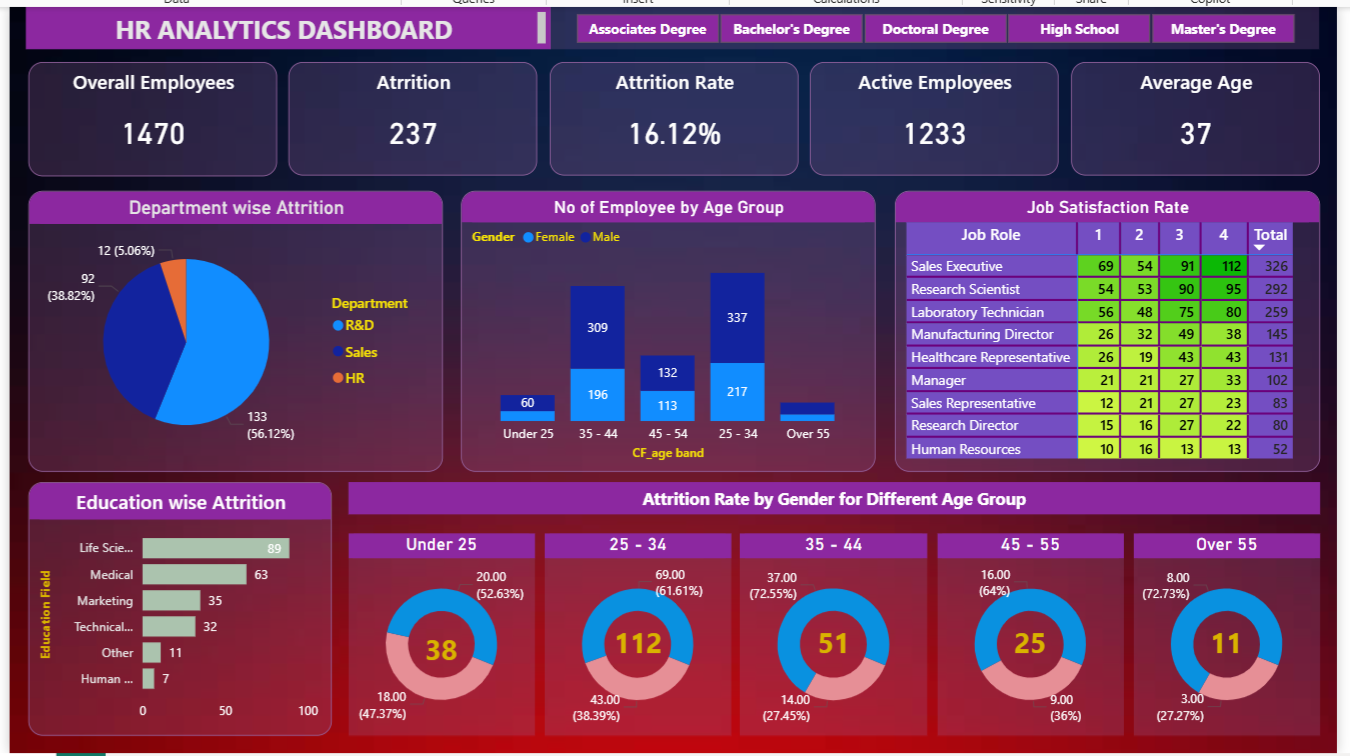

Layout of this report page (visuals, bound fields, positions):
{"tool":"powerbi","page":{"name":"Page 1","canvas":[1280,720],"ordinal":0},"visuals":[{"type":"card","title":"Overall Employees","fields":{"Values":["Sum(HR data.Employee Count)"]},"box":[17.8,53.5,240,110],"z":0},{"type":"card","title":"Atrrition","fields":{"Values":["Sum(HR data.AttritionCount)"]},"box":[269.2,53.5,240.1,109.8],"z":1000},{"type":"card","title":"Attrition Rate","fields":{"Values":["HR data.Attrition Rate"]},"box":[520.7,53.5,240.1,109.8],"z":2000},{"type":"card","title":"Active Employees","fields":{"Values":["HR data.Active Employees"]},"box":[772.2,53.5,240.1,109.8],"z":3000},{"type":"card","title":"Average Age","fields":{"Values":["Avg(HR data.Age)"]},"box":[1023.7,53.5,240.1,109.8],"z":4000},{"type":"pieChart","title":" Department wise Attrition","fields":{"Category":["HR data.Department"],"Y":["Sum(HR data.AttritionCount)"]},"box":[18.1,177.3,400,271],"z":5000},{"type":"columnChart","title":"No of Employee by Age Group","fields":{"Series":["HR data.Gender"],"Category":["HR data.CF_age band"],"Y":["Sum(HR data.Employee Count)"]},"box":[436.1,177.3,400,271],"z":6000},{"type":"pivotTable","title":" Job Satisfaction Rate","fields":{"Rows":["HR data.Job Role"],"Columns":["HR data.Job Satisfaction"],"Values":["Sum(HR data.Employee Count)"]},"box":[854.2,177.3,410.2,271.4],"z":7000},{"type":"barChart","title":" Education wise Attrition","fields":{"Y":["Sum(HR data.AttritionCount)"],"Category":["HR data.Education Field"]},"box":[18.1,458.4,293.2,244.9],"z":8000},{"type":"donutChart","title":" Under 25","fields":{"Category":["HR data.Gender"],"Y":["Sum(HR data.AttritionCount)"],"Series":["HR data.CF_age band"]},"box":[326.9,507.9,179.8,195.4],"z":9000},{"type":"textbox","box":[326.9,458.4,937.4,31.4],"z":10000},{"type":"donutChart","title":"25 - 34","fields":{"Category":["HR data.Gender"],"Y":["Sum(HR data.AttritionCount)"],"Series":["HR data.CF_age band"]},"box":[516.1,507.9,179.8,195.4],"z":11000},{"type":"donutChart","title":"35 - 44","fields":{"Category":["HR data.Gender"],"Y":["Sum(HR data.AttritionCount)"],"Series":["HR data.CF_age band"]},"box":[705.2,507.9,181,195.4],"z":12000},{"type":"donutChart","title":"45 - 55","fields":{"Category":["HR data.Gender"],"Y":["Sum(HR data.AttritionCount)"],"Series":["HR data.CF_age band"]},"box":[895.5,507.9,179.8,195.4],"z":13000},{"type":"donutChart","title":" Over 55","fields":{"Category":["HR data.Gender"],"Y":["Sum(HR data.AttritionCount)"],"Series":["HR data.CF_age band"]},"box":[1084.6,507.9,179.8,195.4],"z":14000},{"type":"textbox","box":[15.1,0,506.3,41.2],"z":15000},{"type":"card","fields":{"Values":["Sum(HR data.AttritionCount)"]},"box":[393.8,605.1,46.7,31.6],"z":16000},{"type":"card","fields":{"Values":["Sum(HR data.AttritionCount)"]},"box":[772.6,598.3,46.7,31.6],"z":17000},{"type":"card","fields":{"Values":["Sum(HR data.AttritionCount)"]},"box":[961.9,598.3,46.7,31.6],"z":18000},{"type":"card","fields":{"Values":["Sum(HR data.AttritionCount)"]},"box":[1151.3,598.3,46.7,31.6],"z":19000},{"type":"card","fields":{"Values":["Sum(HR data.AttritionCount)"]},"box":[577.7,595.5,57.6,37],"z":20000},{"type":"slicer","fields":{"Values":["HR data.Education"]},"box":[521.4,0,742.4,41.2],"z":21000}]}

Visuals, with their boxes on the page's 1280x720 design canvas (x1, y1, x2, y2). These are canvas units, not pixel positions in the 1350x756 screenshot, which may show the page scaled, cropped or inside an application window:
"Overall Employees" card: 18,54,258,164
"Atrrition" card: 269,54,509,163
"Attrition Rate" card: 521,54,761,163
"Active Employees" card: 772,54,1012,163
"Average Age" card: 1024,54,1264,163
" Department wise Attrition" pieChart: 18,177,418,448
"No of Employee by Age Group" columnChart: 436,177,836,448
" Job Satisfaction Rate" pivotTable: 854,177,1264,449
" Education wise Attrition" barChart: 18,458,311,703
" Under 25" donutChart: 327,508,507,703
textbox: 327,458,1264,490
"25 - 34" donutChart: 516,508,696,703
"35 - 44" donutChart: 705,508,886,703
"45 - 55" donutChart: 896,508,1075,703
" Over 55" donutChart: 1085,508,1264,703
textbox: 15,0,521,41
card - Sum(HR data.AttritionCount): 394,605,440,637
card - Sum(HR data.AttritionCount): 773,598,819,630
card - Sum(HR data.AttritionCount): 962,598,1009,630
card - Sum(HR data.AttritionCount): 1151,598,1198,630
card - Sum(HR data.AttritionCount): 578,596,635,632
slicer - HR data.Education: 521,0,1264,41
